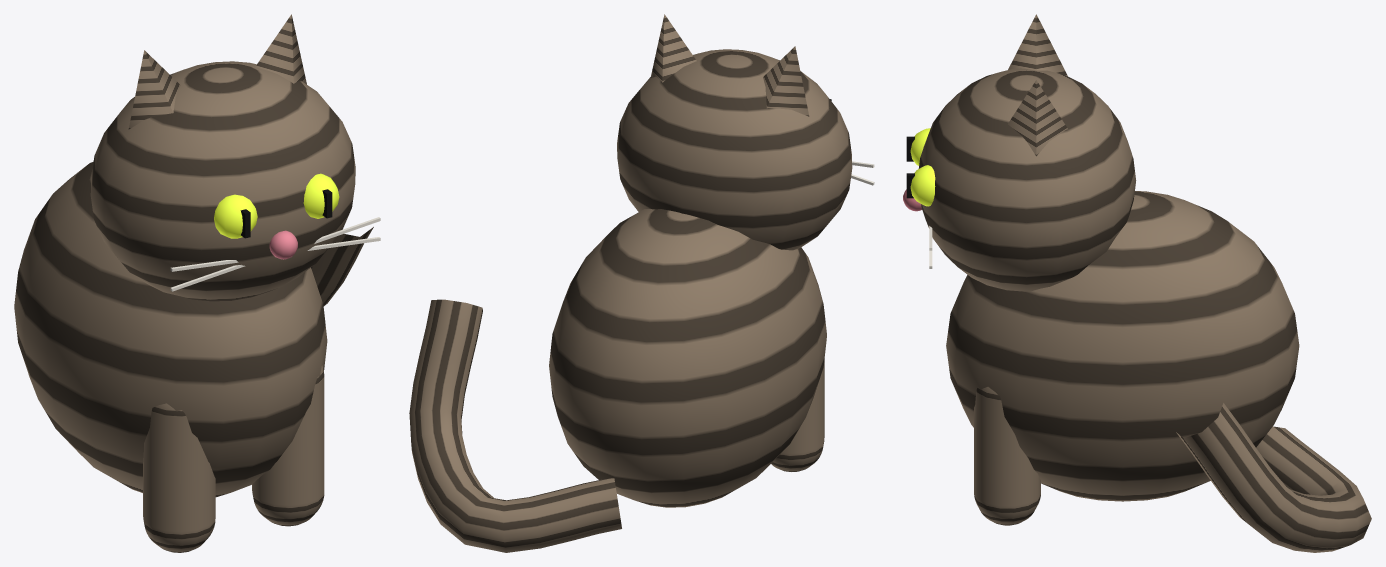
The model's file is kedi.glb.
3 renders of one model, left to right at view 1: azimuth 30°, elevation 25°; view 2: azimuth 150°, elevation 25°; view 3: azimuth 270°, elevation 25°, orthographic. The views are drawn at different scales.
Visible parts, largest first — view 1: kedi-tekir, bas, kuyruk; view 2: kedi-tekir, bas, kuyruk; view 3: kedi-tekir, bas, kuyruk.
Boxes of the visible parts, x1=… form: kedi-tekir: x1=14, y1=161, x2=327, y2=552; bas: x1=90, y1=14, x2=380, y2=301; kuyruk: x1=311, y1=227, x2=373, y2=306; kedi-tekir: x1=549, y1=209, x2=826, y2=507; bas: x1=617, y1=14, x2=874, y2=250; kuyruk: x1=409, y1=299, x2=621, y2=552; kedi-tekir: x1=946, y1=191, x2=1299, y2=525; bas: x1=903, y1=14, x2=1136, y2=291; kuyruk: x1=1176, y1=403, x2=1371, y2=552.
Size of the model in its own units: 0.4057 by 0.5186 by 0.4883.
5 materials, 1 textured.
